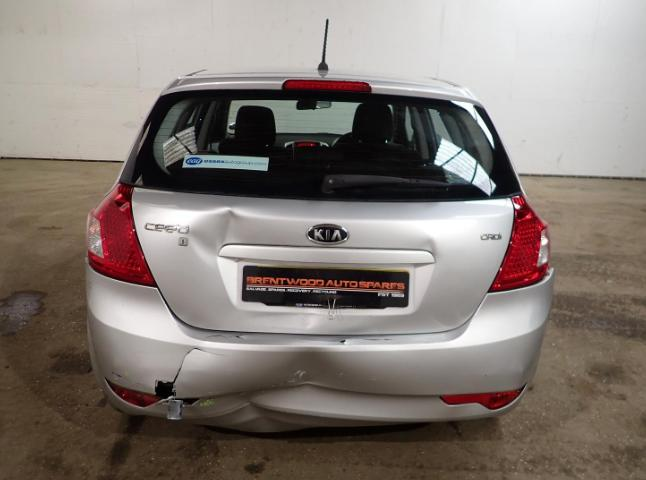Back-bumper: (85, 257, 554, 433)
Back-windshield: (117, 93, 523, 202)
License-plate: (243, 266, 409, 310)
Roof: (159, 67, 484, 108)
Tail-light: (86, 182, 157, 286), (490, 194, 551, 294)
Trunk: (131, 187, 514, 334)
